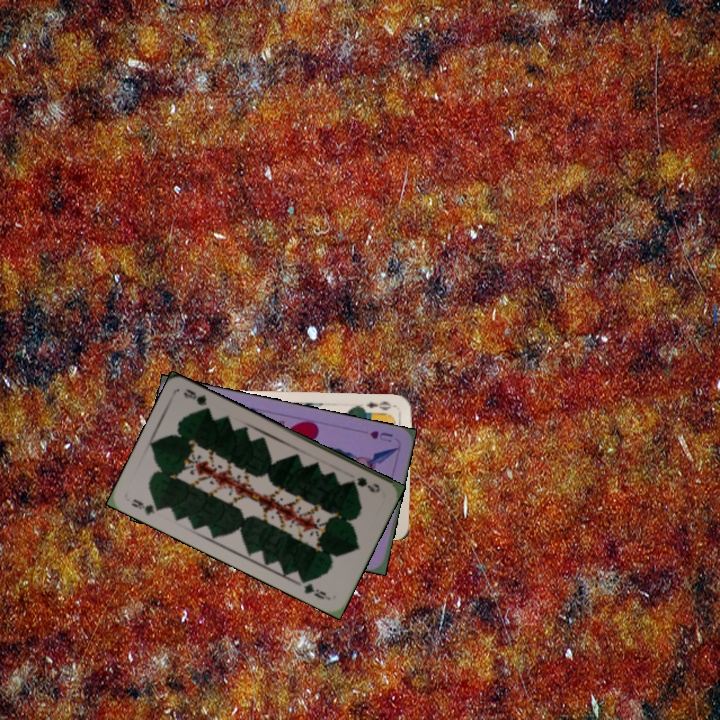EO: (362, 397, 397, 413)
G9: (345, 473, 383, 496), (127, 495, 165, 518)
HU: (365, 426, 395, 445)
